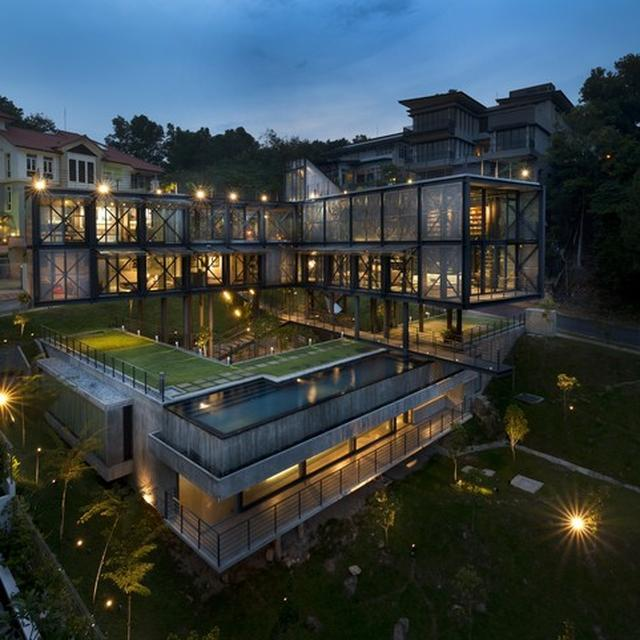building: (25, 164, 546, 360), (304, 79, 566, 166), (0, 105, 161, 200)
